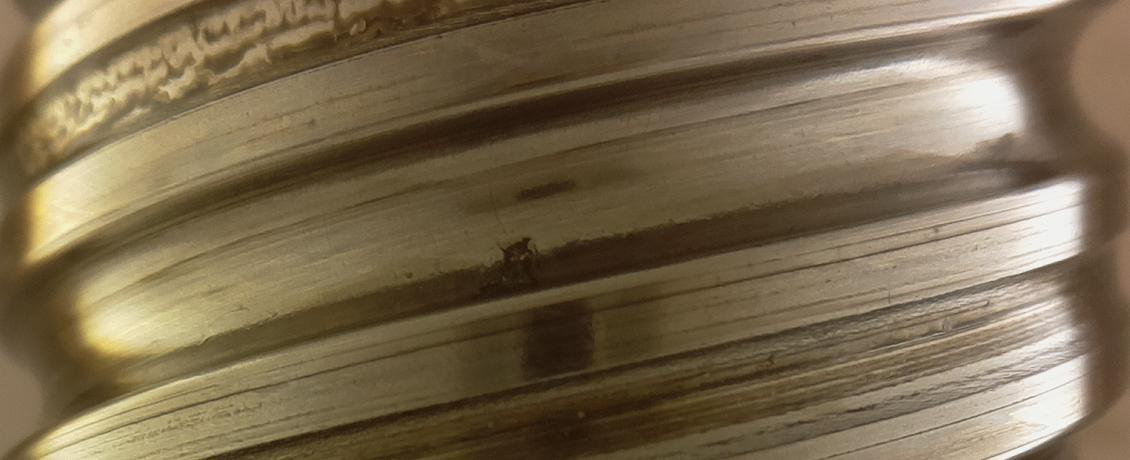pitting: (481, 237, 550, 298)
